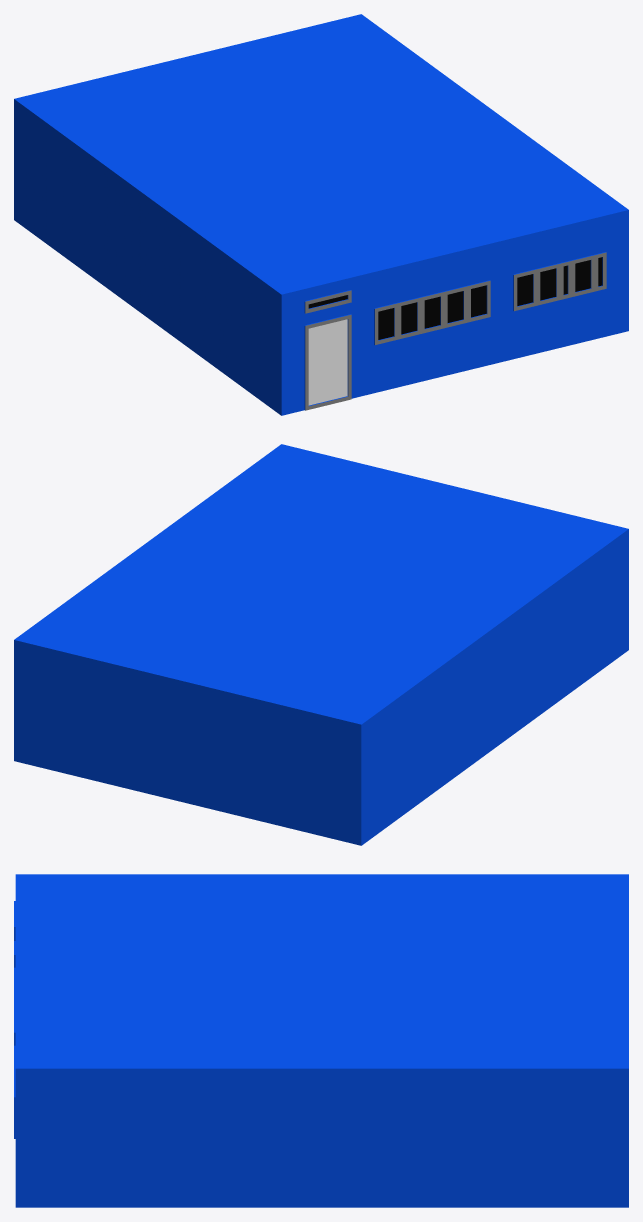
File: casa5.fbx
3 renders of one model, top to bottom at view 1: azimuth 30°, elevation 25°; view 2: azimuth 150°, elevation 25°; view 3: azimuth 270°, elevation 25°, orthographic. The views are drawn at different scales.
Visible parts, largest first — view 1: Cubo; view 2: Cubo; view 3: Cubo.
Boxes of the visible parts, x1=… form: Cubo: x1=14, y1=14, x2=628, y2=415; Cubo: x1=14, y1=444, x2=628, y2=845; Cubo: x1=14, y1=874, x2=628, y2=1207.
Bounding box in the file's own units: 300 × 100 × 401.
